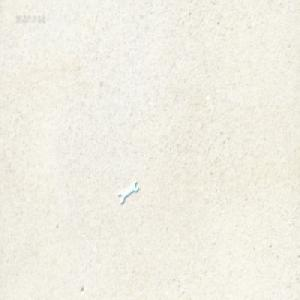Wrench: (117, 179, 139, 205)
